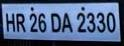0: (106, 12, 117, 33)
2: (75, 12, 88, 34), (29, 13, 39, 33)
3: (95, 11, 107, 33), (86, 12, 97, 34)
6: (38, 13, 48, 34)
A: (62, 12, 74, 33)
D: (50, 12, 62, 34)
H: (5, 12, 16, 33)
R: (15, 13, 27, 33)
